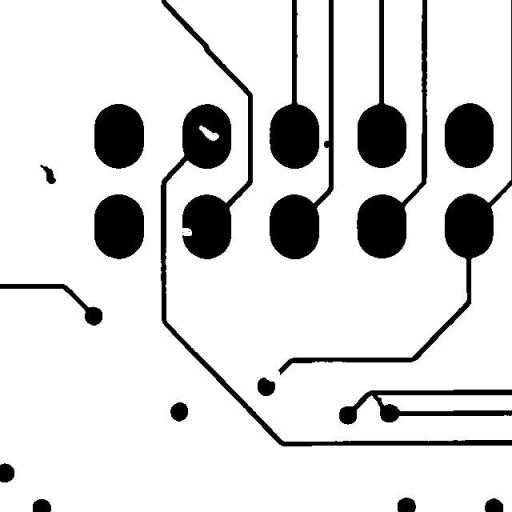copper: (32, 157, 63, 191)
mousebite: (173, 220, 199, 243)
open: (257, 362, 288, 388)
pin-hole: (192, 118, 226, 148)
short: (364, 384, 394, 420)
spur: (316, 133, 338, 155)
